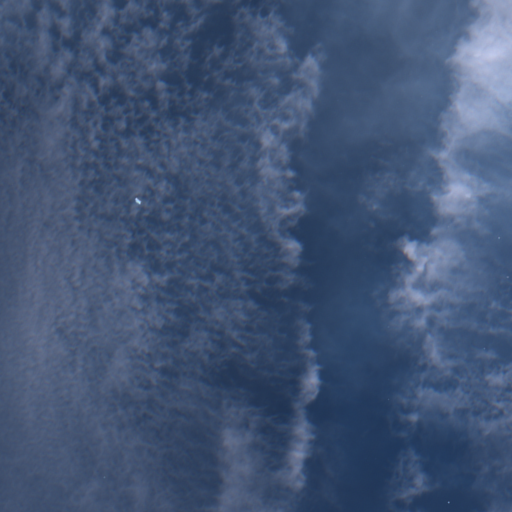Iceberg: (135, 197, 141, 204), (447, 501, 449, 503), (498, 237, 499, 238), (507, 276, 508, 277)
